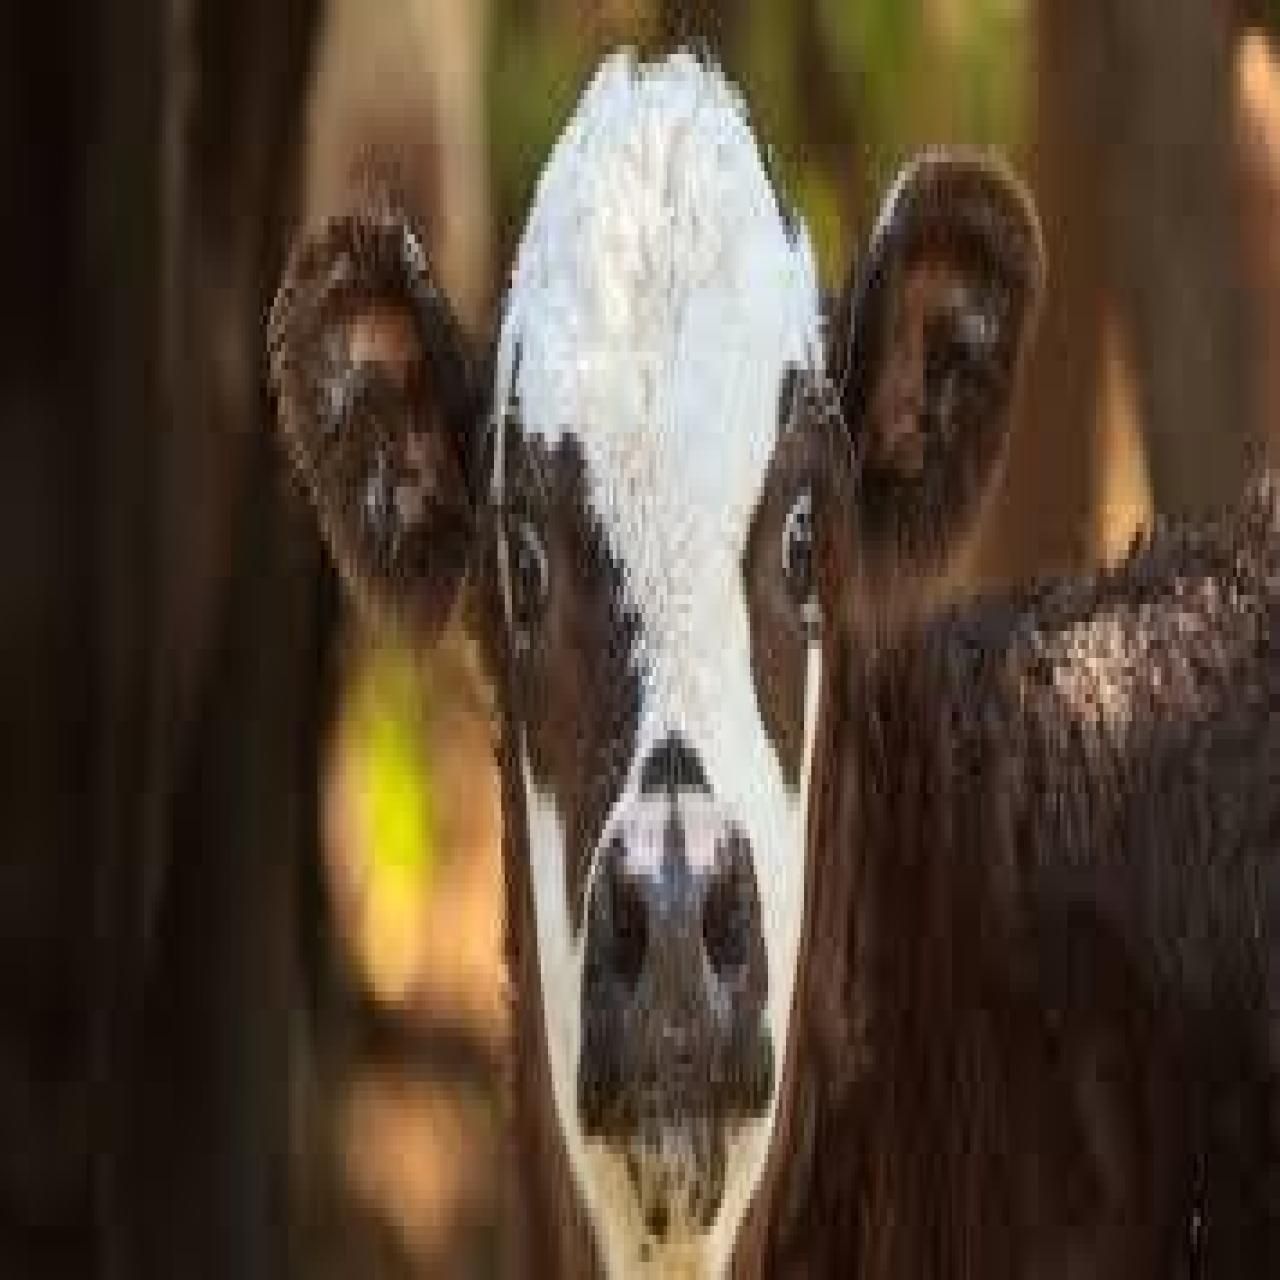cow: (267, 54, 1280, 1280)
